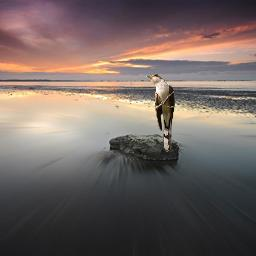Cuckoo: (146, 74, 175, 152)
